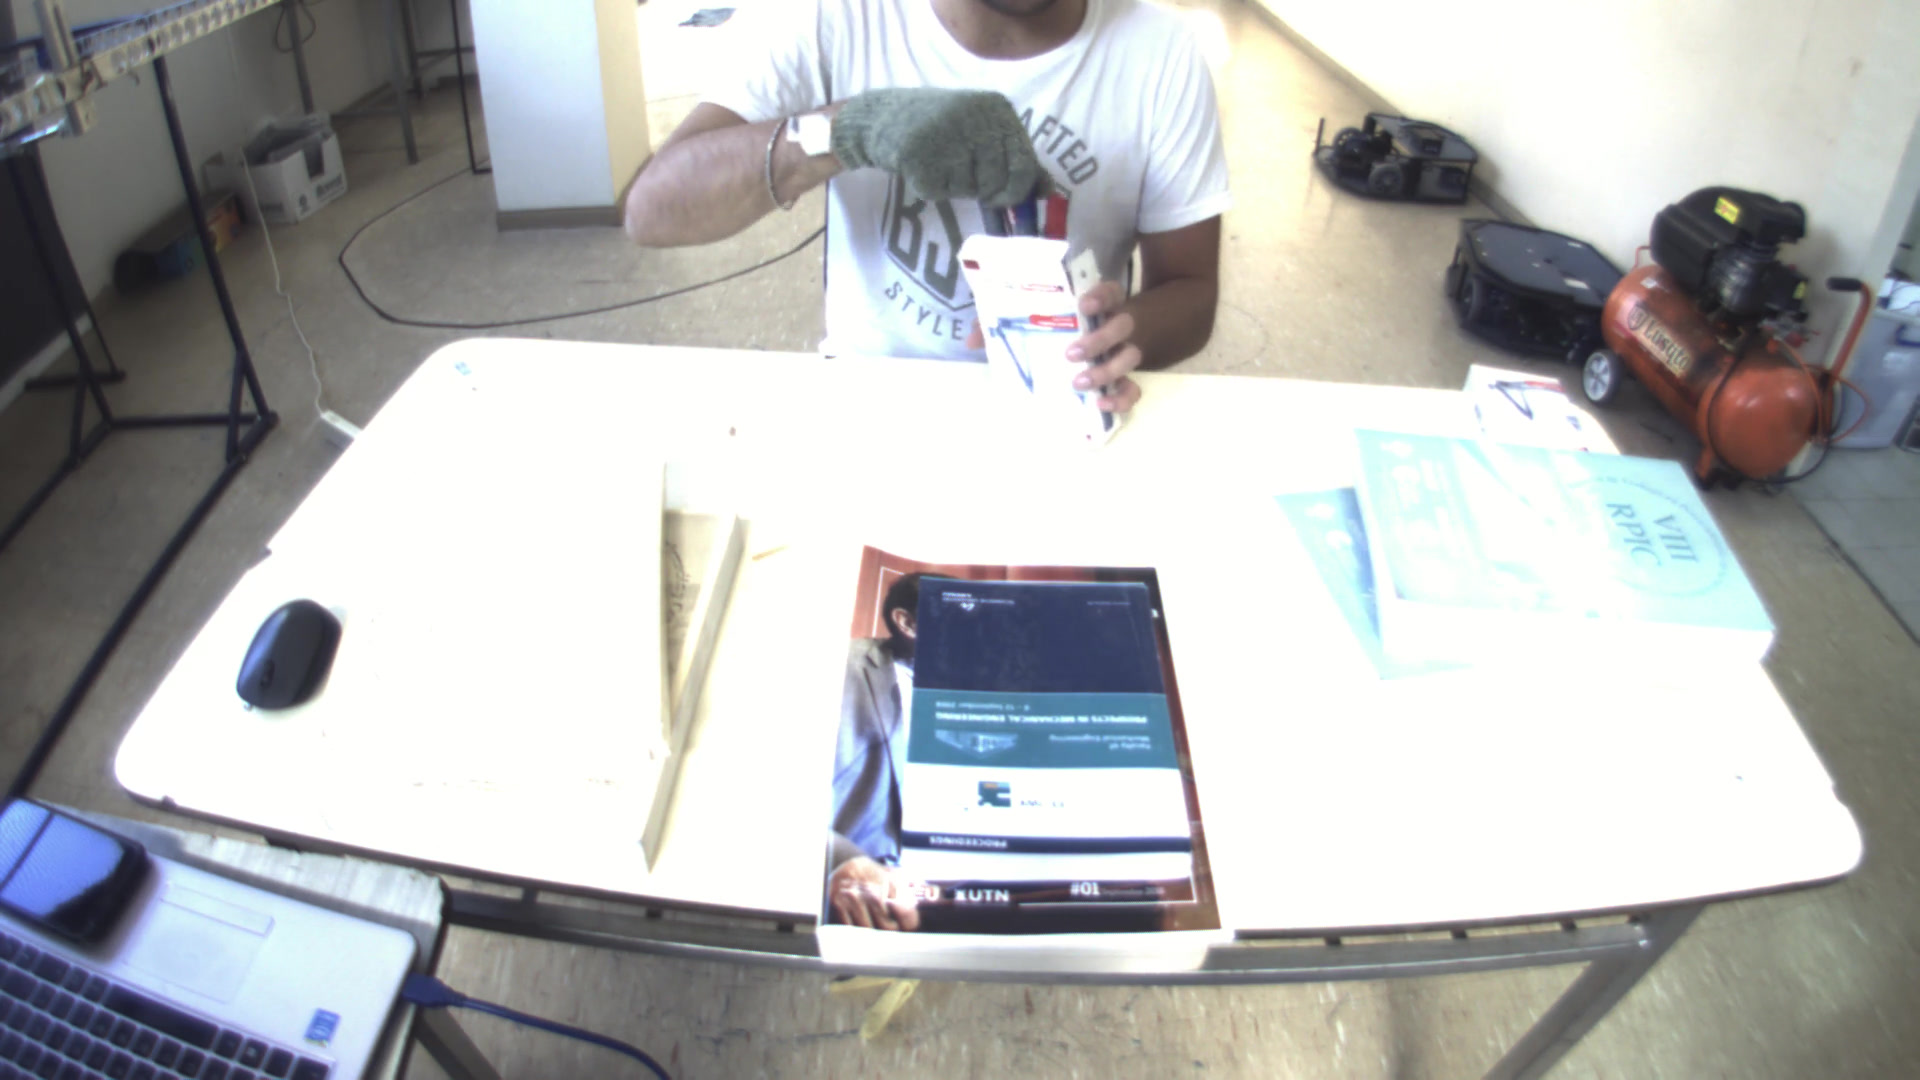hand: (818, 75, 1050, 200), (1060, 266, 1155, 440)
